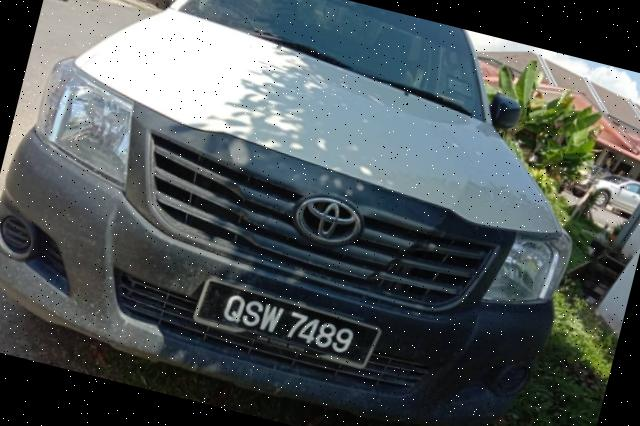License_Plate: (192, 279, 384, 373)
car: (1, 1, 640, 426)
